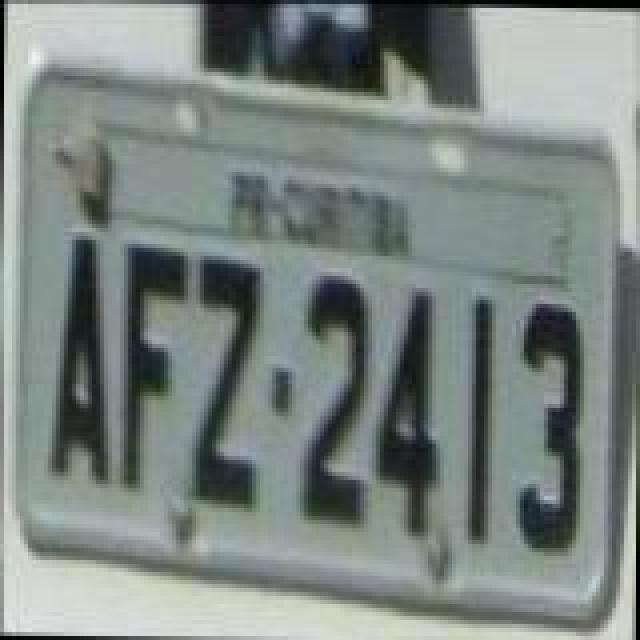1: (462, 282, 502, 542)
2: (296, 266, 372, 530)
3: (512, 292, 588, 556)
4: (368, 280, 444, 544)
A: (46, 228, 114, 484)
F: (116, 236, 196, 496)
Z: (190, 252, 270, 516)
